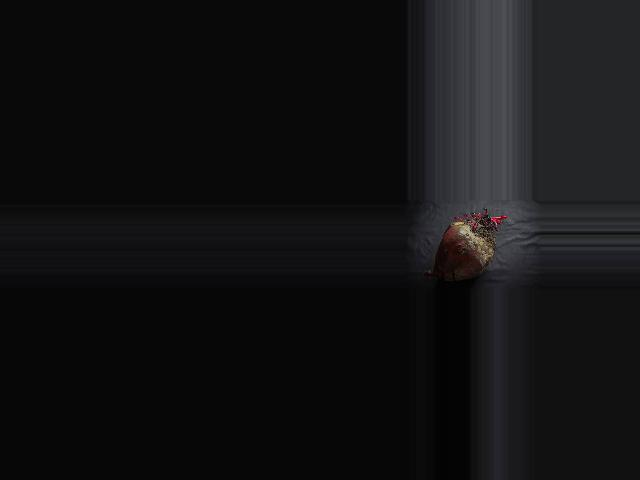beet: (422, 208, 507, 281)
